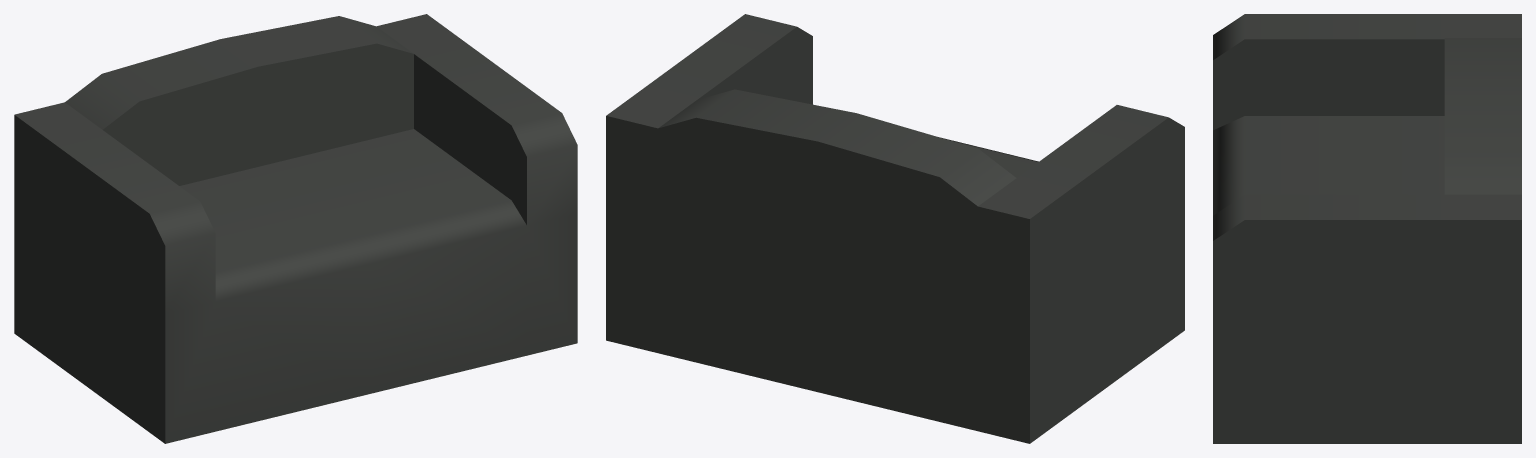
The model's file is soft_couch_3.fbx.
The picture shows the model from 3 angles, left to right: view 1: azimuth 30°, elevation 25°; view 2: azimuth 150°, elevation 25°; view 3: azimuth 270°, elevation 25°; orthographic projection. The views are drawn at different scales.
Visible parts, largest first — view 1: soft_couch_3; view 2: soft_couch_3; view 3: soft_couch_3.
Boxes of the visible parts, x1,y1,x2,y2 form: soft_couch_3: (14,14,577,443); soft_couch_3: (606,14,1184,443); soft_couch_3: (1213,14,1521,443).
Size of the model in its own units: 4.97 by 2.81 by 3.15.
